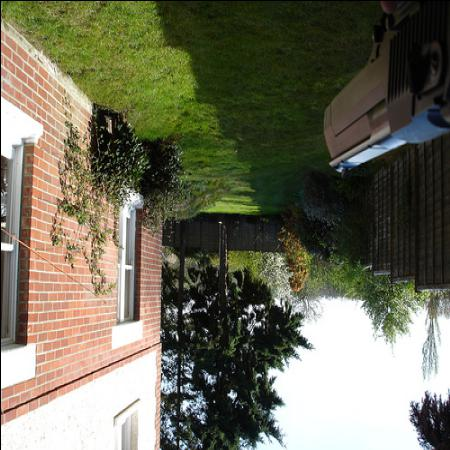Pistol: (320, 3, 448, 182)
